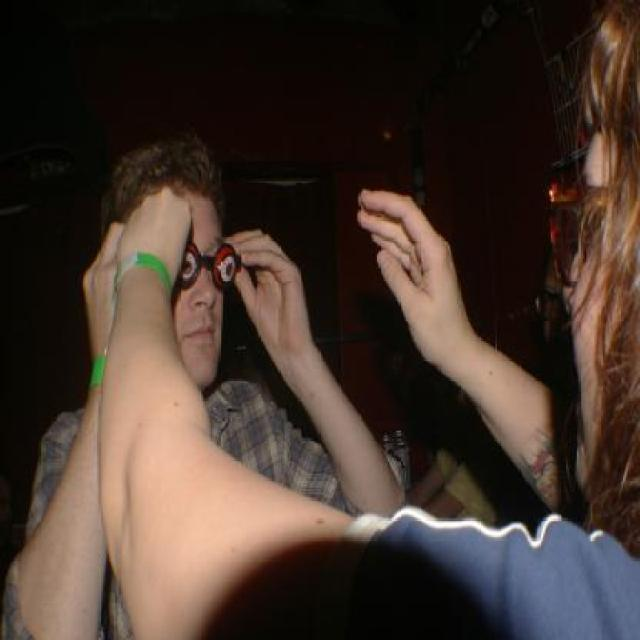face_nomask: (161, 232, 244, 362)
hand_noglove: (351, 181, 482, 368), (218, 226, 316, 352), (66, 227, 140, 336), (114, 188, 200, 270)
